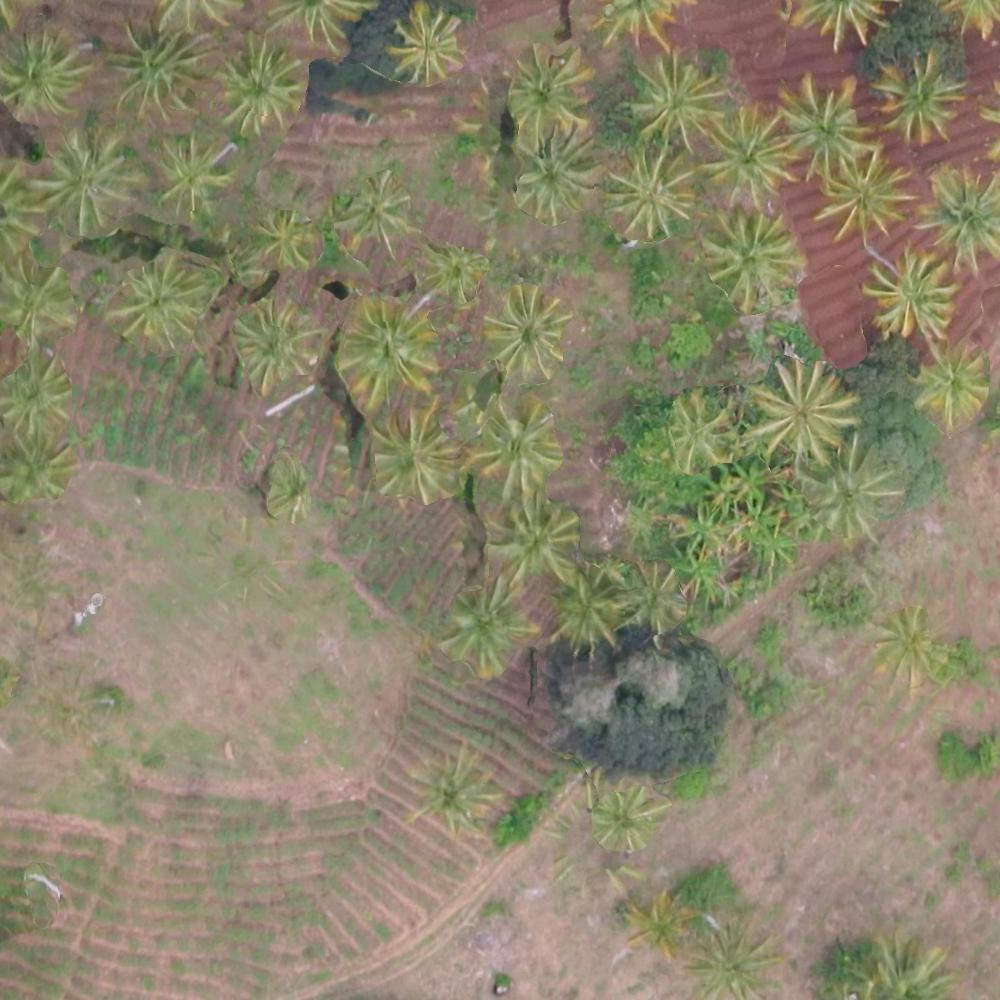Palm: (701, 205, 804, 304), (754, 361, 849, 459), (37, 132, 132, 229), (798, 444, 895, 534), (468, 399, 561, 492), (108, 25, 200, 119), (777, 82, 872, 173), (628, 54, 719, 148), (341, 302, 432, 396), (860, 257, 954, 341), (922, 168, 1000, 268), (488, 494, 577, 581), (820, 152, 911, 236), (213, 42, 301, 127), (229, 302, 316, 386), (369, 417, 454, 502), (116, 263, 204, 345), (503, 48, 595, 124), (1, 34, 85, 117), (876, 55, 958, 138), (487, 288, 564, 376), (151, 133, 235, 213), (453, 585, 529, 672), (712, 114, 792, 195), (693, 927, 777, 1000), (665, 390, 736, 472), (913, 345, 987, 419), (417, 747, 488, 823), (388, 5, 464, 75), (551, 566, 620, 643), (2, 260, 69, 339), (1, 435, 72, 509), (879, 609, 948, 685), (343, 174, 415, 245), (2, 357, 76, 426), (625, 892, 694, 957), (620, 558, 683, 627), (251, 204, 317, 265), (592, 790, 653, 856), (426, 243, 484, 294)
